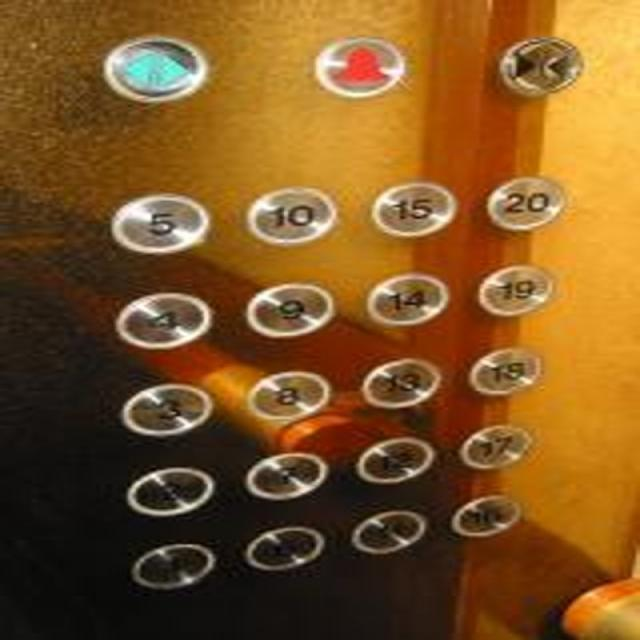10: (243, 184, 336, 247)
12: (354, 435, 434, 483)
13: (357, 356, 444, 409)
14: (360, 271, 449, 324)
15: (370, 181, 454, 238)
17: (458, 423, 530, 468)
18: (468, 346, 541, 395)
19: (472, 264, 552, 315)
2: (128, 465, 213, 516)
20: (482, 174, 566, 229)
3: (117, 382, 211, 436)
4: (111, 291, 209, 348)
5: (107, 190, 209, 255)
7: (239, 452, 332, 499)
8: (243, 369, 329, 418)
9: (243, 281, 337, 338)
alarm: (311, 36, 404, 98)
blur: (125, 540, 216, 590), (243, 523, 328, 572), (346, 509, 426, 555), (449, 493, 520, 536)
close: (495, 34, 585, 96)
open: (105, 36, 207, 102)
